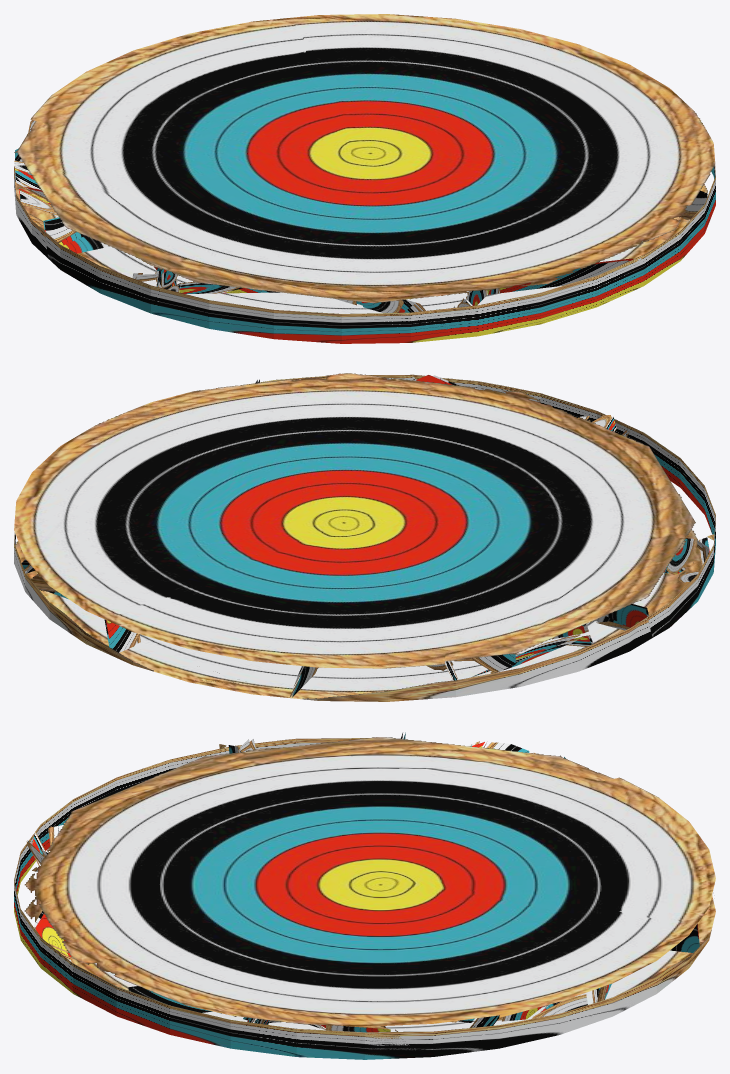
Rendered from Torget.fbx.
3 renders of one model, top to bottom at view 1: azimuth 30°, elevation 25°; view 2: azimuth 150°, elevation 25°; view 3: azimuth 270°, elevation 25°, orthographic.
Visible parts, largest first — view 1: Cylinder.003, Cylinder.003_cell.002, Cylinder.003_cell.007, Cylinder.003_cell.039, Cylinder.003_cell.004, Cylinder.003_cell.026, Cylinder.003_cell.033, Cylinder.003_cell.022, Cylinder.003_cell.042, Cylinder.003_cell.035, Cylinder.003_cell.008, Cylinder.003_cell.003 (+7 smaller); view 2: Cylinder.003, Cylinder.003_cell.004, Cylinder.003_cell.002, Cylinder.003_cell.007, Cylinder.003_cell.039, Cylinder.003_cell.042, Cylinder.003_cell.033, Cylinder.003_cell.010, Cylinder.003_cell.008, Cylinder.003_cell.037, Cylinder.003_cell.003, Cylinder.003_cell.036 (+4 smaller); view 3: Cylinder.003, Cylinder.003_cell.002, Cylinder.003_cell.007, Cylinder.003_cell.004, Cylinder.003_cell.039, Cylinder.003_cell.033, Cylinder.003_cell.010, Cylinder.003_cell.008, Cylinder.003_cell.042, Cylinder.003_cell.016, Cylinder.003_cell.003, Cylinder.003_cell.018 (+4 smaller).
Part boxes in pixels (x1,y1,x2,y2): Cylinder.003: [14, 17, 715, 343]; Cylinder.003_cell.002: [247, 54, 459, 173]; Cylinder.003_cell.007: [308, 35, 550, 115]; Cylinder.003_cell.039: [14, 120, 182, 204]; Cylinder.003_cell.004: [98, 18, 307, 106]; Cylinder.003_cell.026: [158, 271, 447, 343]; Cylinder.003_cell.033: [146, 135, 386, 198]; Cylinder.003_cell.022: [450, 260, 661, 338]; Cylinder.003_cell.042: [27, 67, 168, 134]; Cylinder.003_cell.035: [44, 205, 177, 290]; Cylinder.003_cell.008: [293, 14, 477, 44]; Cylinder.003_cell.003: [166, 74, 261, 142]; Cylinder.003: [14, 373, 715, 701]; Cylinder.003_cell.004: [106, 597, 346, 697]; Cylinder.003_cell.002: [172, 504, 392, 600]; Cylinder.003_cell.007: [50, 477, 218, 597]; Cylinder.003_cell.039: [382, 583, 584, 679]; Cylinder.003_cell.042: [292, 617, 458, 701]; Cylinder.003_cell.033: [391, 499, 547, 599]; Cylinder.003_cell.010: [17, 429, 169, 513]; Cylinder.003_cell.008: [20, 548, 150, 647]; Cylinder.003_cell.037: [466, 503, 605, 579]; Cylinder.003_cell.003: [235, 576, 395, 618]; Cylinder.003_cell.036: [555, 590, 652, 662]; Cylinder.003: [14, 737, 705, 1059]; Cylinder.003_cell.002: [344, 844, 614, 936]; Cylinder.003_cell.007: [373, 912, 625, 1022]; Cylinder.003_cell.004: [576, 829, 715, 946]; Cylinder.003_cell.039: [394, 742, 586, 825]; Cylinder.003_cell.033: [301, 780, 509, 873]; Cylinder.003_cell.010: [277, 972, 497, 1056]; Cylinder.003_cell.008: [586, 917, 698, 1021]; Cylinder.003_cell.042: [555, 777, 693, 833]; Cylinder.003_cell.016: [250, 1019, 423, 1059]; Cylinder.003_cell.003: [467, 827, 597, 884]; Cylinder.003_cell.018: [472, 983, 592, 1051].
Bounding box in the file's own units: 49.52 × 2.58 × 49.52.
